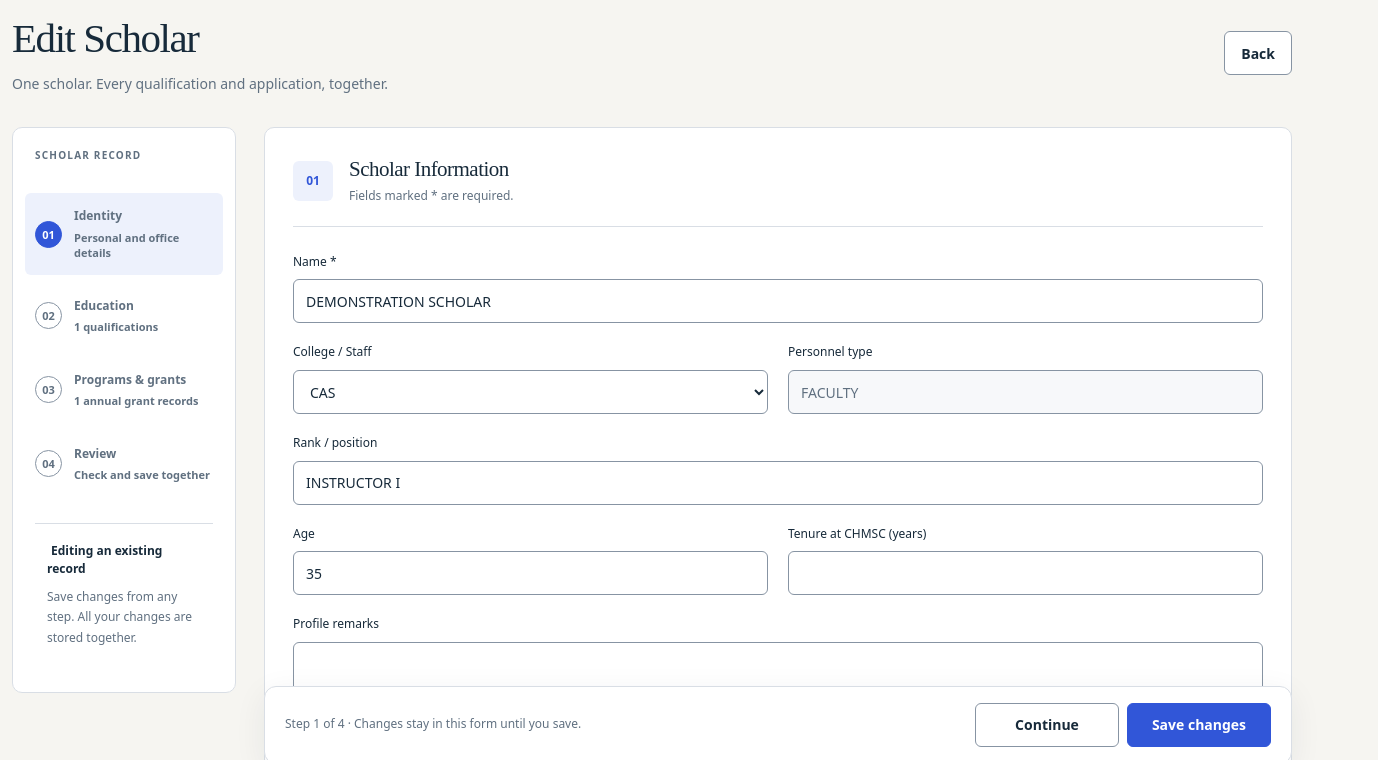
Scenario: quick save cannot discard an open education entry
Expected: the field labelled "Name *" is shown, x1=293 y1=279 x2=1263 y2=323
Click the button "02 Education 1 qualifications" at (124, 316), box x1=25 y1=283 x2=223 y2=349
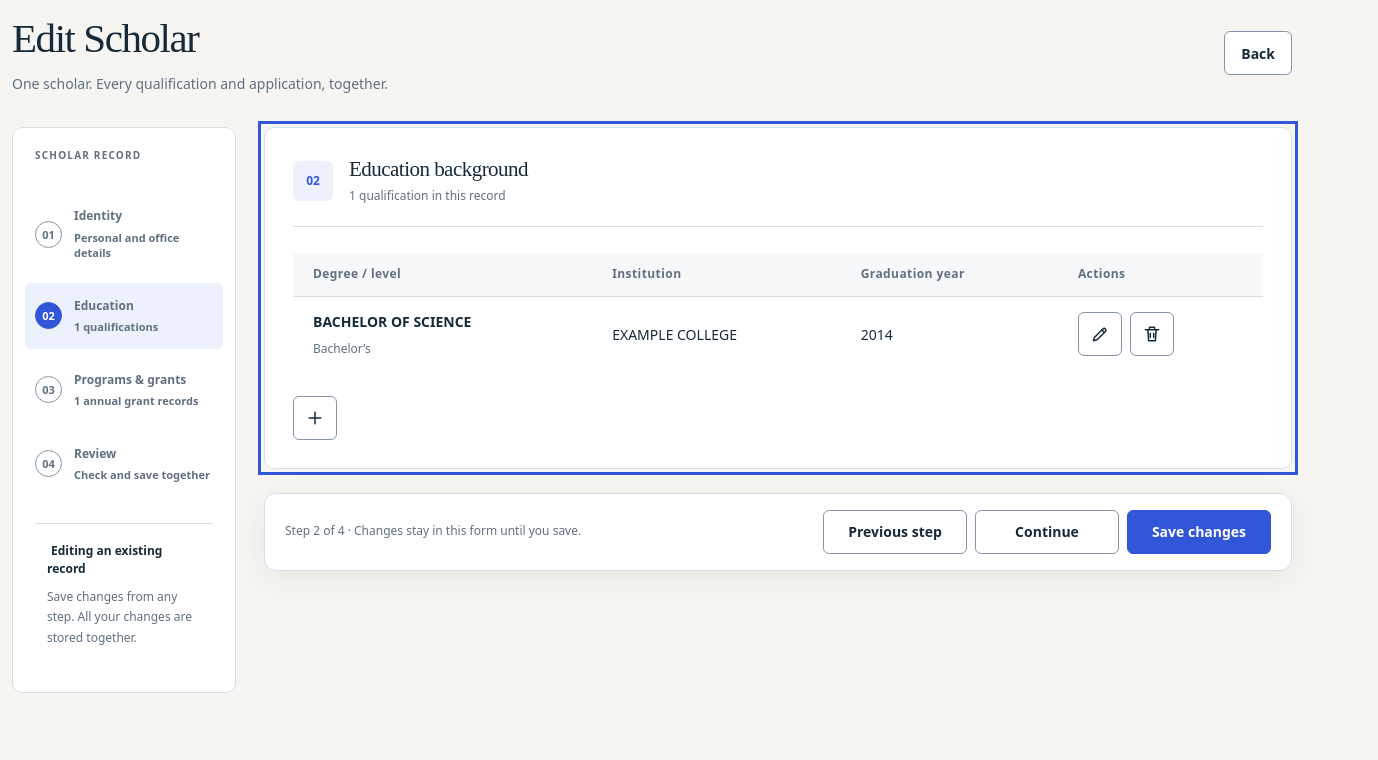
Click the button named "Add education" at (315, 418), box x1=293 y1=396 x2=337 y2=440
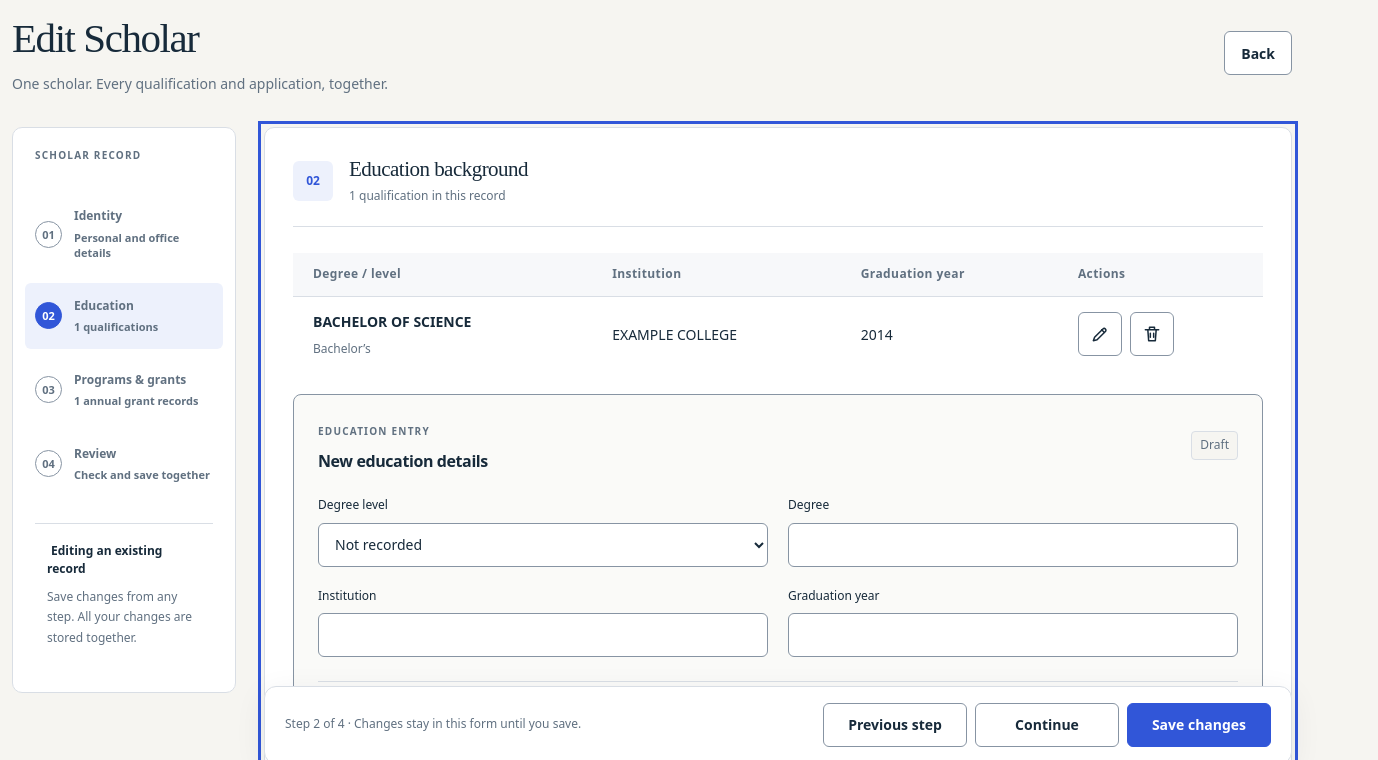
Type "Retained nested draft" into the field labelled "Degree" at (1013, 544), box x1=788 y1=522 x2=1238 y2=566
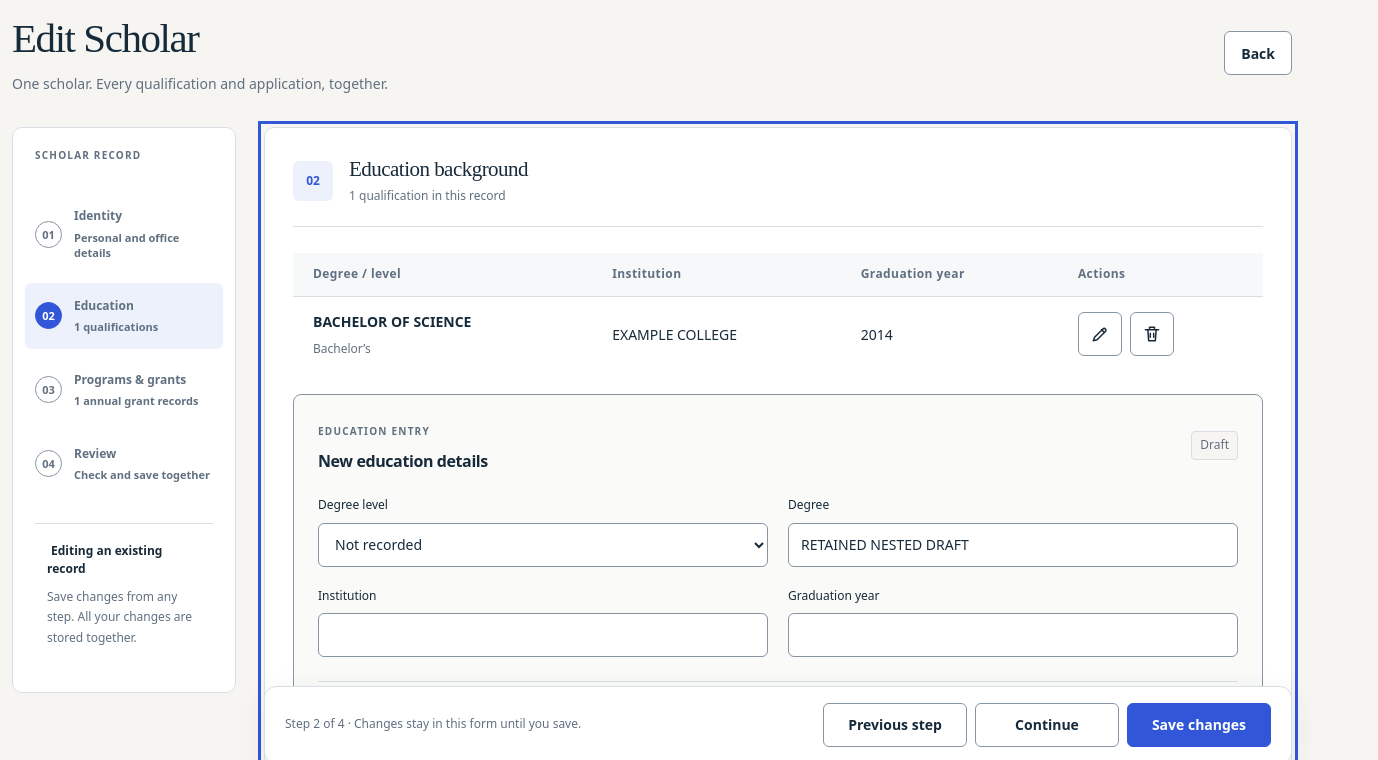
Click the button "Save changes" at (1199, 725), box x1=1127 y1=703 x2=1271 y2=747
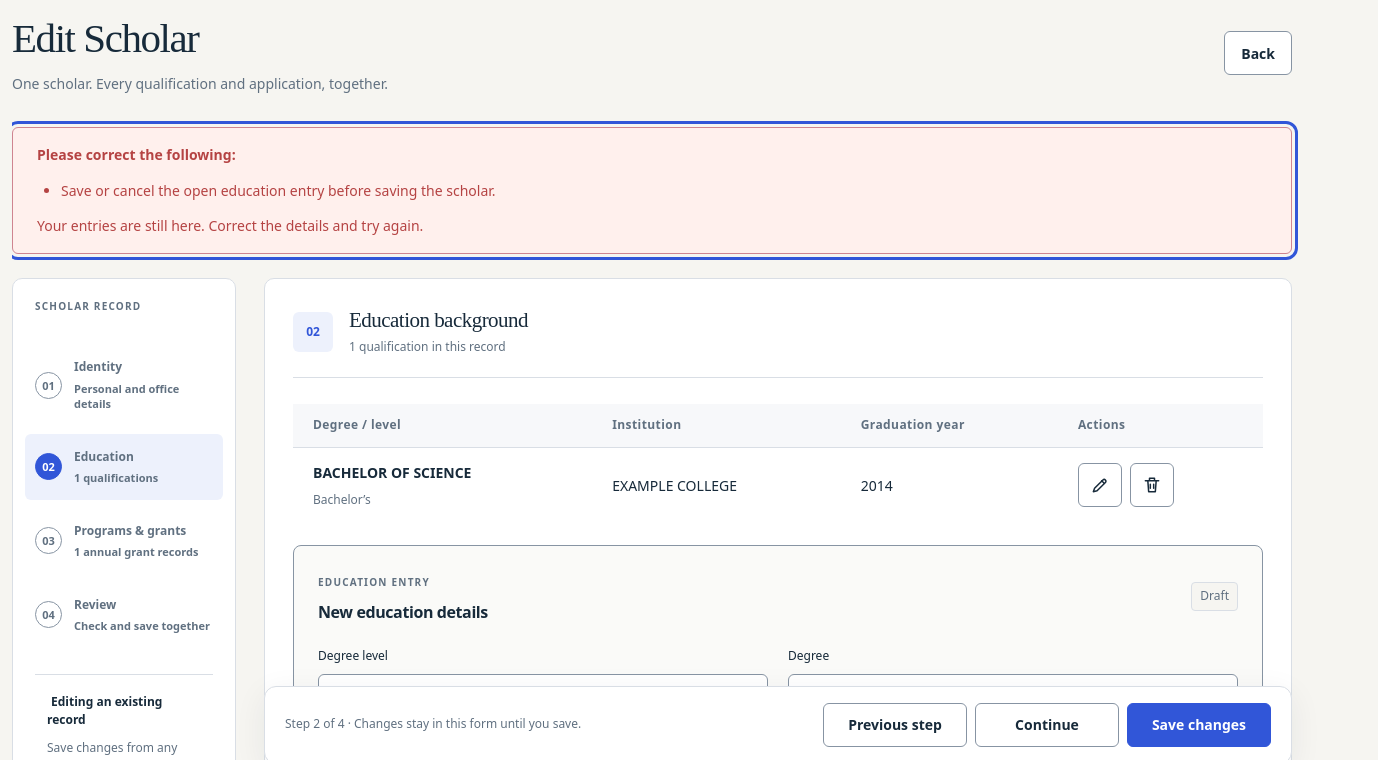
Expected: the message that starts with "Please correct the following:" shows "open education entry", x1=61 y1=181 x2=496 y2=200
